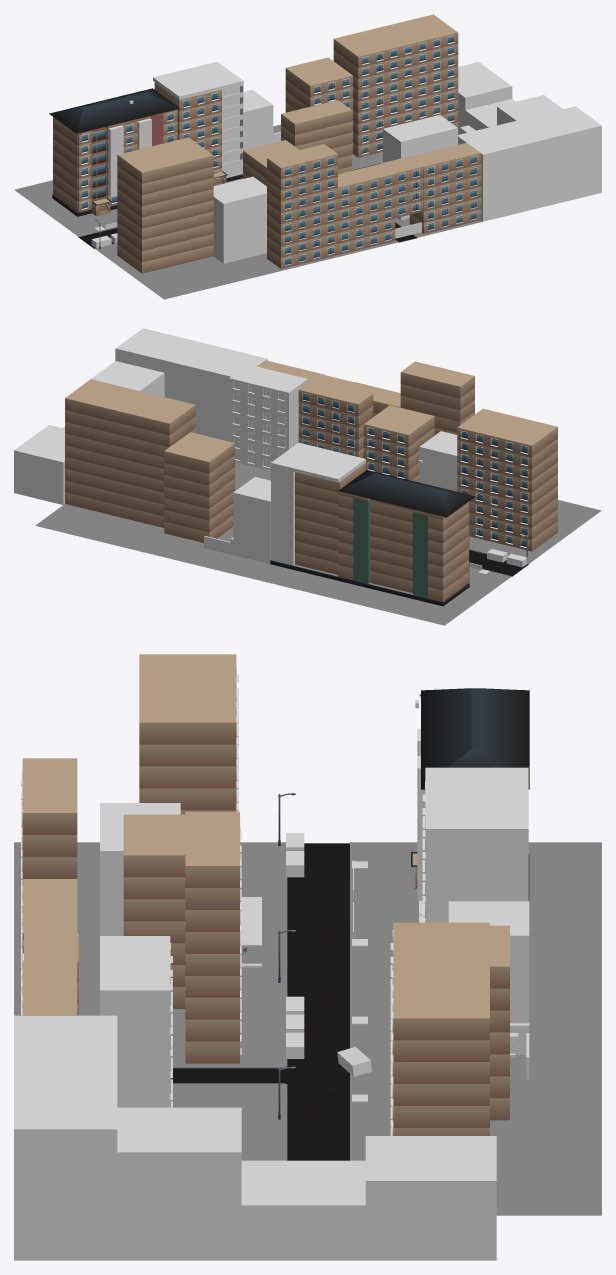
Rendered from GGJ_Map01.fbx.
3 views of the same model, one above another, from view 1: azimuth 30°, elevation 25°; view 2: azimuth 150°, elevation 25°; view 3: azimuth 270°, elevation 25° (orthographic). The views are drawn at different scales.
Visible parts, largest first — view 1: Cube, Cube.001, Cube.003, Cube.049, Plane, Cube.052, Cube.050, Cube.006, Cube.004, Cube.015, Cube.024, Cube.026 (+12 smaller); view 2: Cube.001, Plane, Cube, Cube.003, Cube.024, Cube.007, Cube.004, Cube.021, Cube.002, Cube.049, Cube.018, Cube.015 (+13 smaller); view 3: Plane, Cube, Cube.001, Cube.003, Cube.004, Cube.007, Cube.026, Cube.002, Cube.022, Cube.030, Cube.049, Cube.024 (+9 smaller).
Part boxes in pixels (x1,y1,x2,y2): Cube: (458, 62, 601, 221); Cube.001: (333, 14, 458, 157); Cube.003: (117, 137, 213, 273); Cube.049: (267, 144, 337, 268); Plane: (14, 124, 482, 299); Cube.052: (409, 143, 480, 233); Cube.050: (338, 164, 395, 254); Cube.006: (213, 176, 266, 252); Cube.004: (281, 100, 351, 173); Cube.015: (53, 117, 91, 212); Cube.024: (285, 57, 352, 153); Cube.026: (49, 88, 179, 133); Cube.001: (65, 379, 195, 527); Plane: (35, 462, 601, 625); Cube: (14, 328, 267, 504); Cube.003: (457, 408, 557, 551); Cube.024: (164, 432, 234, 542); Cube.007: (229, 364, 307, 470); Cube.004: (298, 379, 373, 458); Cube.021: (295, 463, 365, 574); Cube.002: (363, 405, 434, 482); Cube.049: (400, 361, 474, 435); Cube.018: (370, 500, 412, 592); Cube.015: (428, 502, 468, 601); Plane: (14, 842, 601, 1215); Cube: (14, 1015, 496, 1260); Cube.001: (390, 922, 489, 1135); Cube.003: (139, 654, 238, 814); Cube.004: (185, 811, 241, 1063); Cube.007: (100, 936, 172, 1107); Cube.026: (421, 688, 529, 789); Cube.002: (123, 814, 185, 1008); Cube.022: (425, 835, 528, 922); Cube.030: (425, 767, 528, 835); Cube.049: (21, 758, 77, 978); Cube.024: (490, 925, 509, 1120).
Size of the model in its own units: 12265 by 2853 by 7285.
1 material, 1 textured.
